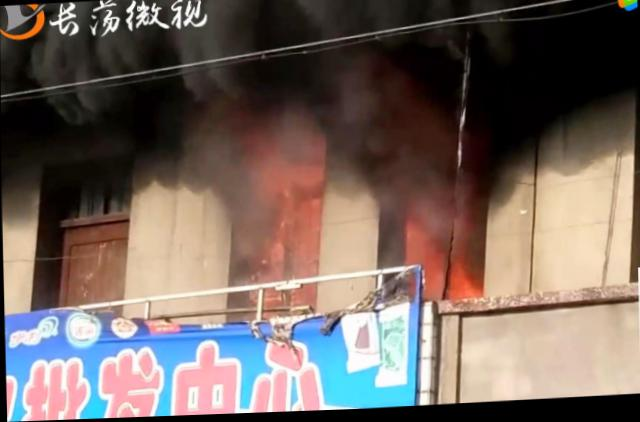fire: (445, 266, 479, 299)
